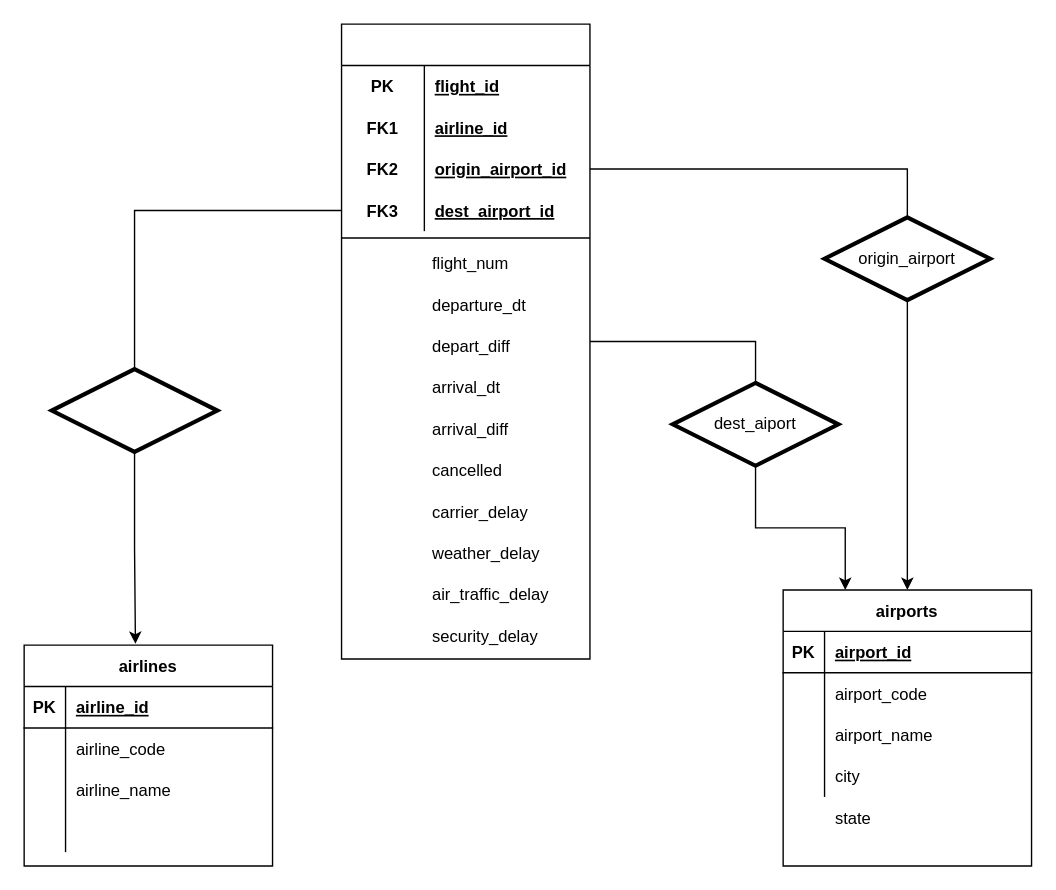
This 1056x890 diagram has some shape labels left out. Each missing label, with the box of its shape:
flights: (340, 23, 590, 659)
is_from: (49, 366, 219, 453)
